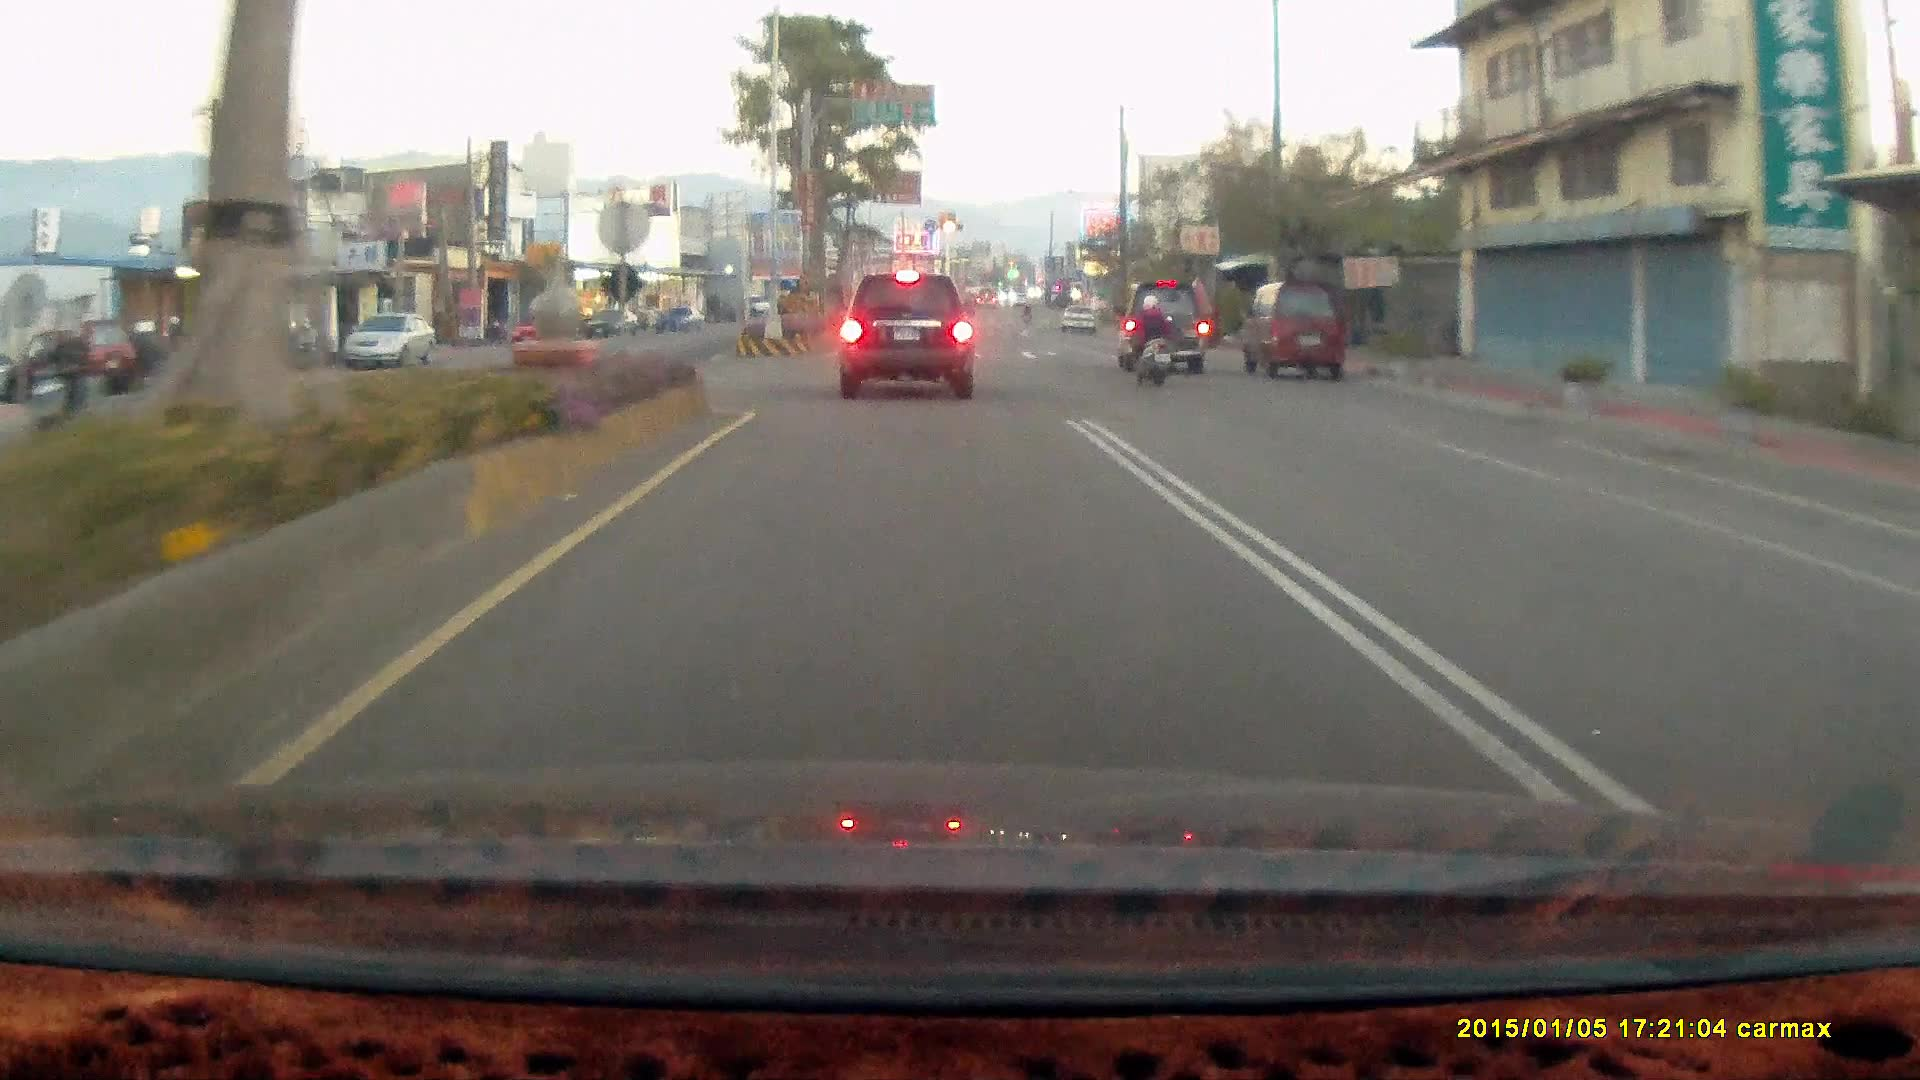rider: (32, 320, 101, 439), (1118, 287, 1183, 395), (1123, 293, 1174, 389)
vehicle: (831, 269, 986, 399), (836, 273, 974, 400), (1244, 282, 1350, 389), (1240, 280, 1345, 381), (1115, 281, 1221, 374), (1116, 278, 1206, 373), (340, 312, 436, 374), (342, 312, 435, 369)
